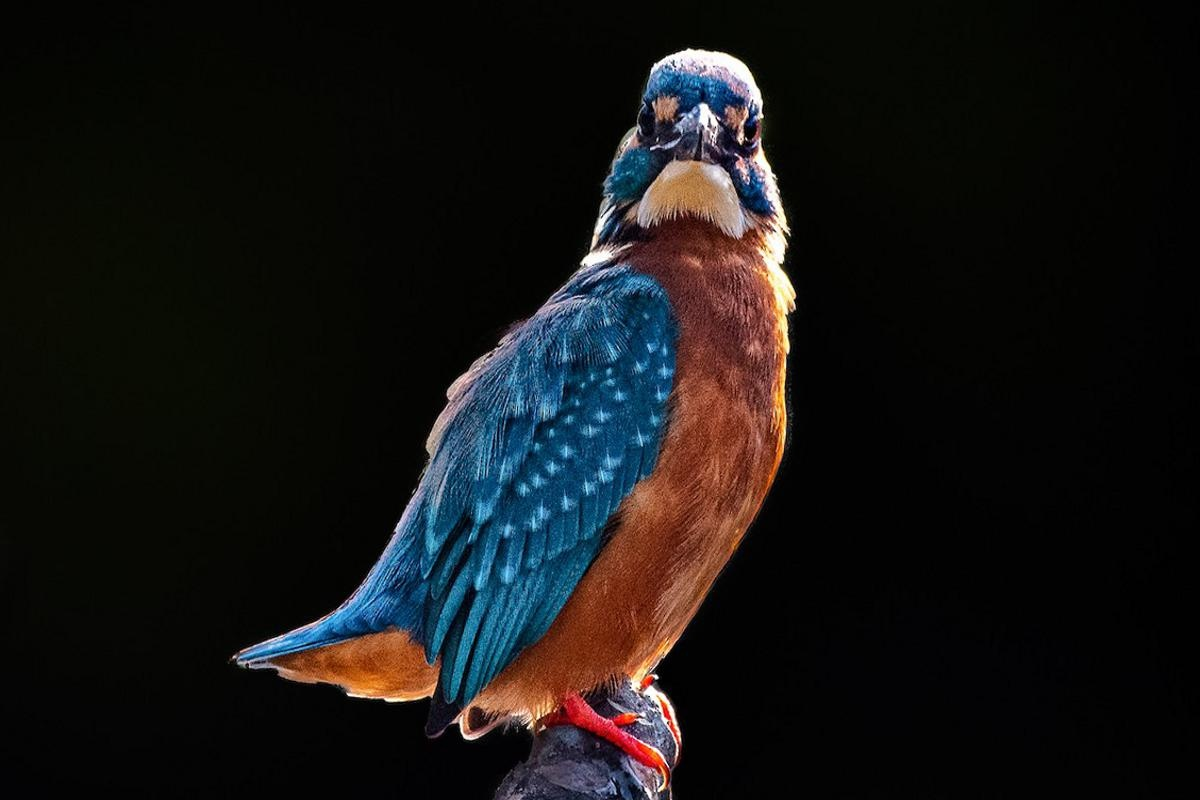kingfisher: (247, 43, 812, 782)
